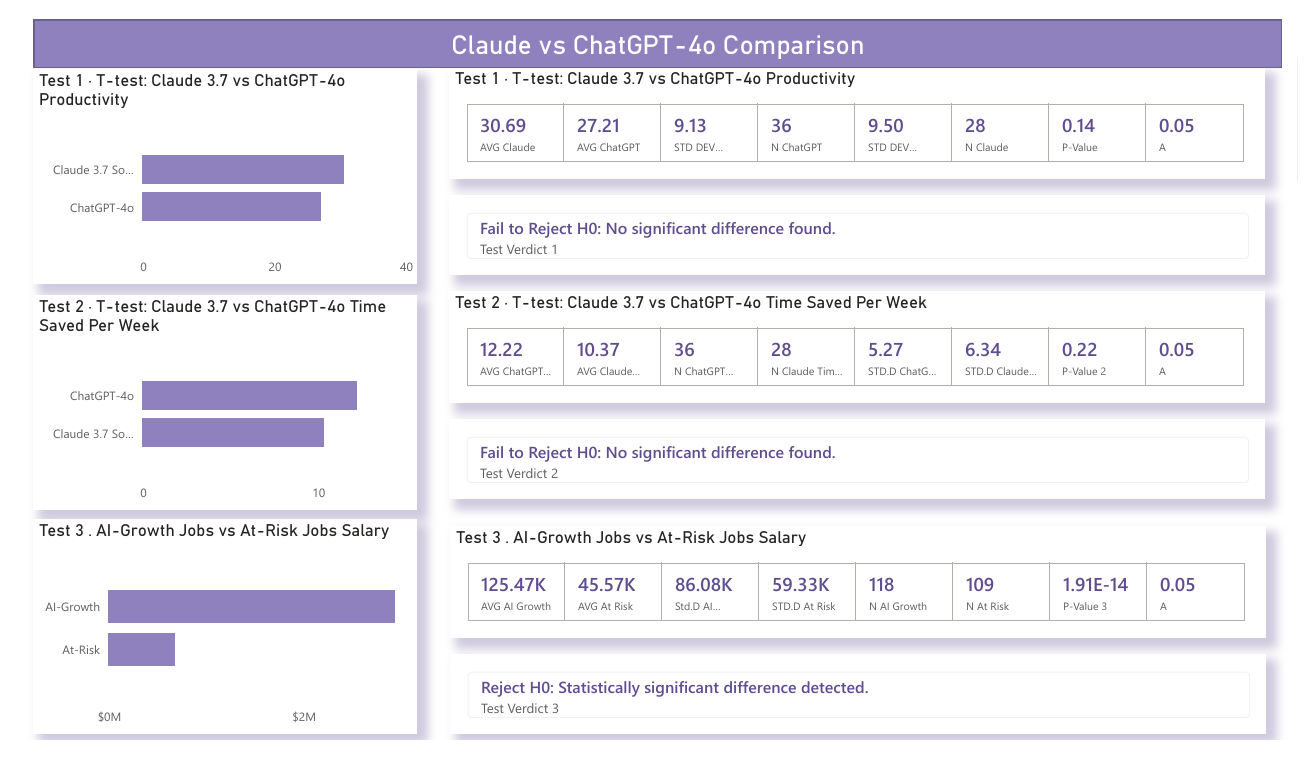

Layout of this report page (visuals, bound fields, positions):
{"tool":"powerbi","page":{"name":"Hypothesis Test","canvas":[1280,720],"ordinal":6},"visuals":[{"type":"barChart","title":"Test 1 · T-test: Claude 3.7 vs ChatGPT-4o Productivity","fields":{"Category":["Fact_JobsAI.ToolName"],"Y":["Avg(Fact_JobsAI.ProductivityGain%)"]},"box":[16,50,384,215],"z":0},{"type":"cardVisual","title":"Test 1 · T-test: Claude 3.7 vs ChatGPT-4o Productivity","fields":{"Data":["Measure.AVG Claude","Measure.AVG ChatGPT","Measure.STD DEV ChatGPT","Measure.N ChatGPT","Measure.STD DEV Claude","Measure.N Claude","Measure.P-Value","Measure.A"]},"box":[432,48,816,112],"z":1000},{"type":"cardVisual","fields":{"Data":["Measure.Test Verdict"]},"box":[432,176,816,80],"z":2000},{"type":"shape","box":[16,0,1248,48],"z":3000},{"type":"barChart","title":"Test 2 · T-test: Claude 3.7 vs ChatGPT-4o Time Saved Per Week","fields":{"Category":["Fact_JobsAI.ToolName"],"Y":["Avg(Fact_JobsAI.TimeSavedHrs/Wk)"]},"box":[16,276,384,215],"z":4000},{"type":"barChart","title":"Test 3 . AI-Growth Jobs vs At-Risk Jobs Salary","fields":{"Category":["Fact_JobsAI.JobCategory"],"Y":["Sum(Fact_JobsAI.AnnualSalaryUSD)"]},"box":[16,500,384,215],"z":5000},{"type":"cardVisual","title":"Test 2 · T-test: Claude 3.7 vs ChatGPT-4o Time Saved Per Week","fields":{"Data":["Measure.AVG ChatGPT Capability","Measure.AVG Claude Capability","Measure.N ChatGPT Capability","Measure.N Claude Capability","Measure.STD.D ChatGPT Capability","Measure.STD.D Claude","Measure.P-Value 2","Measure.A"]},"box":[432,272,816,112],"z":6000},{"type":"cardVisual","fields":{"Data":["Measure.Test Verdict 2"]},"box":[432,400,816,80],"z":7000},{"type":"cardVisual","title":"Test 3 . AI-Growth Jobs vs At-Risk Jobs Salary","fields":{"Data":["Measure.AVG ChatGPT Coding","Measure.AVG Claude Coding","Measure.STD.D ChatGPT Coding","Measure.STD.D Claude Coding","Measure.N ChatGPT Coding","Measure.N Claude Coding","Measure.P-Value 3","Measure.A"]},"box":[433.4,506.6,816,112],"z":8000},{"type":"cardVisual","fields":{"Data":["Measure.Test Verdict 3"]},"box":[433.4,634.6,816,80],"z":9000}]}

Visuals, with their boxes in screenshot pixels (x1, y1, x2, y2), scaled from the page's 1280x720 canvas onto the 1315x762 screenshot:
"Test 1 · T-test: Claude 3.7 vs ChatGPT-4o Productivity" barChart: [x1=16, y1=53, x2=411, y2=280]
"Test 1 · T-test: Claude 3.7 vs ChatGPT-4o Productivity" cardVisual: [x1=444, y1=51, x2=1282, y2=169]
cardVisual - Measure.Test Verdict: [x1=444, y1=186, x2=1282, y2=271]
shape: [x1=16, y1=0, x2=1299, y2=51]
"Test 2 · T-test: Claude 3.7 vs ChatGPT-4o Time Saved Per Week" barChart: [x1=16, y1=292, x2=411, y2=520]
"Test 3 . AI-Growth Jobs vs At-Risk Jobs Salary" barChart: [x1=16, y1=529, x2=411, y2=757]
"Test 2 · T-test: Claude 3.7 vs ChatGPT-4o Time Saved Per Week" cardVisual: [x1=444, y1=288, x2=1282, y2=406]
cardVisual - Measure.Test Verdict 2: [x1=444, y1=423, x2=1282, y2=508]
"Test 3 . AI-Growth Jobs vs At-Risk Jobs Salary" cardVisual: [x1=445, y1=536, x2=1284, y2=655]
cardVisual - Measure.Test Verdict 3: [x1=445, y1=672, x2=1284, y2=756]
